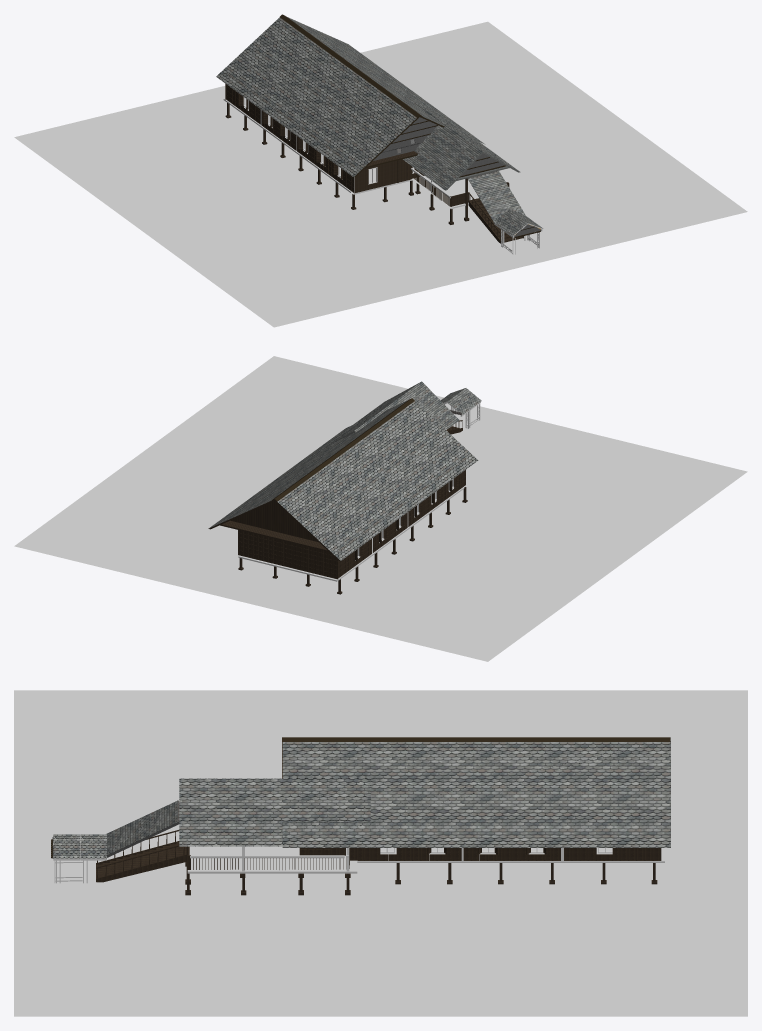
The model's file is rumah.glb.
3 renders of one model, top to bottom at view 1: azimuth 30°, elevation 25°; view 2: azimuth 150°, elevation 25°; view 3: azimuth 270°, elevation 25°, orthographic. The views are drawn at different scales.
Parts seen in each view (by area): view 1: Plane, Plane.103, _G-Object.080 (Loose Mesh).001, _G-Object.002 (Loose Mesh).002, _G-Object.080 (Loose Mesh).005, G-Object.017, G-Object.289, Cube.004, Cube.001; view 2: Plane, Plane.103, _G-Object.080 (Loose Mesh).001, _G-Object.080 (Loose Mesh).005, _G-Object.080 (Loose Mesh), _G-Object.002 (Loose Mesh).002, G-Object.289, Cube.001; view 3: Plane, Plane.103, _G-Object.080 (Loose Mesh).005, _G-Object.002 (Loose Mesh).001, Cube.004, G-Object.289, G-Object.017, _C-Group#62 (Loose Mesh).001, G-Object.105, G-Object.101, Cube.002, Cube.
Part boxes in pixels (x1,y1,x2,y2): Plane: (14, 27, 719, 327); Plane.103: (168, 21, 747, 320); _G-Object.080 (Loose Mesh).001: (216, 17, 416, 176); _G-Object.002 (Loose Mesh).002: (403, 102, 482, 190); _G-Object.080 (Loose Mesh).005: (287, 17, 485, 144); G-Object.017: (468, 171, 525, 222); G-Object.289: (280, 14, 422, 117); Cube.004: (411, 167, 478, 208); Cube.001: (224, 98, 412, 194); Plane: (45, 362, 747, 661); Plane.103: (14, 356, 723, 655); _G-Object.080 (Loose Mesh).001: (277, 401, 478, 560); _G-Object.080 (Loose Mesh).005: (209, 401, 406, 528); _G-Object.080 (Loose Mesh): (208, 499, 340, 560); _G-Object.002 (Loose Mesh).002: (354, 381, 459, 432); G-Object.289: (272, 398, 414, 501); Cube.001: (238, 485, 465, 581); Plane: (14, 690, 747, 1000); Plane.103: (14, 706, 747, 1016); _G-Object.080 (Loose Mesh).005: (282, 737, 670, 847); _G-Object.002 (Loose Mesh).001: (179, 778, 370, 846); Cube.004: (187, 846, 357, 873); G-Object.289: (282, 737, 670, 742); G-Object.017: (103, 800, 177, 856); _C-Group#62 (Loose Mesh).001: (96, 845, 186, 882); G-Object.105: (53, 834, 79, 858); G-Object.101: (80, 834, 106, 858); Cube.002: (357, 860, 664, 862); Cube: (190, 855, 344, 858).
Bounding box in the file's own units: 75.25 × 12.86 × 71.49.
Materials: 111 (90 with a texture image).
